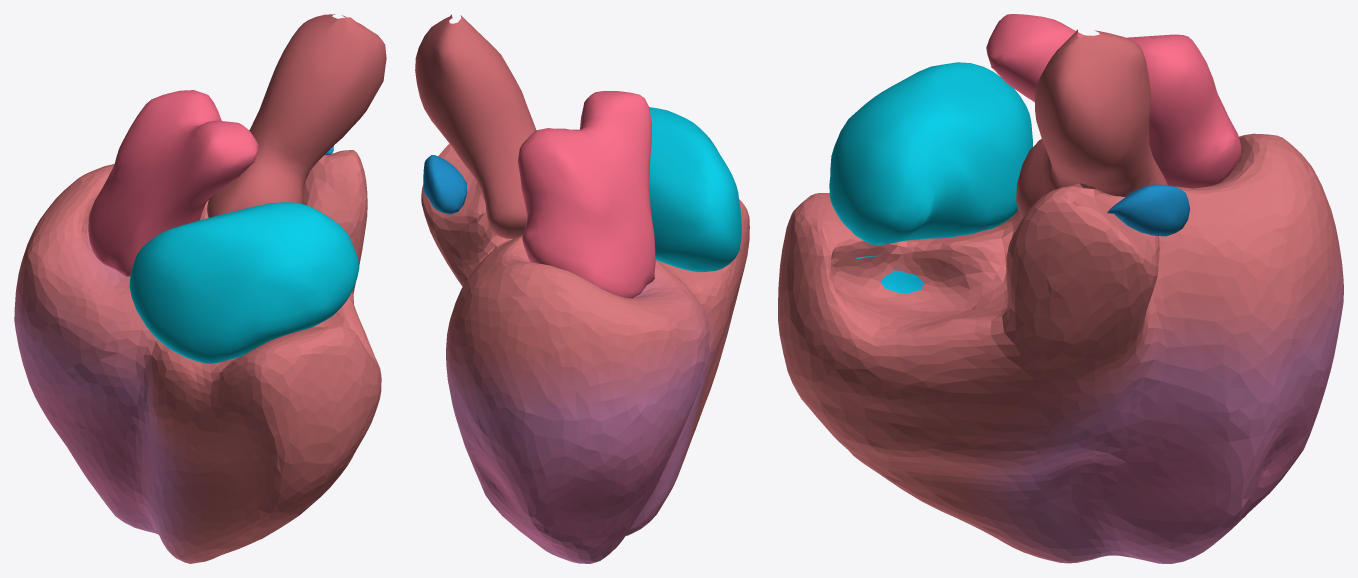
Rendered from frame_58.glb.
The picture shows the model from 3 angles, left to right: view 1: azimuth 30°, elevation 25°; view 2: azimuth 150°, elevation 25°; view 3: azimuth 270°, elevation 25°; orthographic projection. The views are drawn at different scales.
Visible parts, largest first — view 1: Renderer Node; view 2: Renderer Node; view 3: Renderer Node.
Boxes of the visible parts, x1,y1,x2,y2 form: Renderer Node: (14,14,386,563); Renderer Node: (415,14,749,563); Renderer Node: (778,14,1343,563).
Size of the model in its own units: 103 by 157 by 128.
